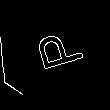P_W: (23, 29, 83, 79)
